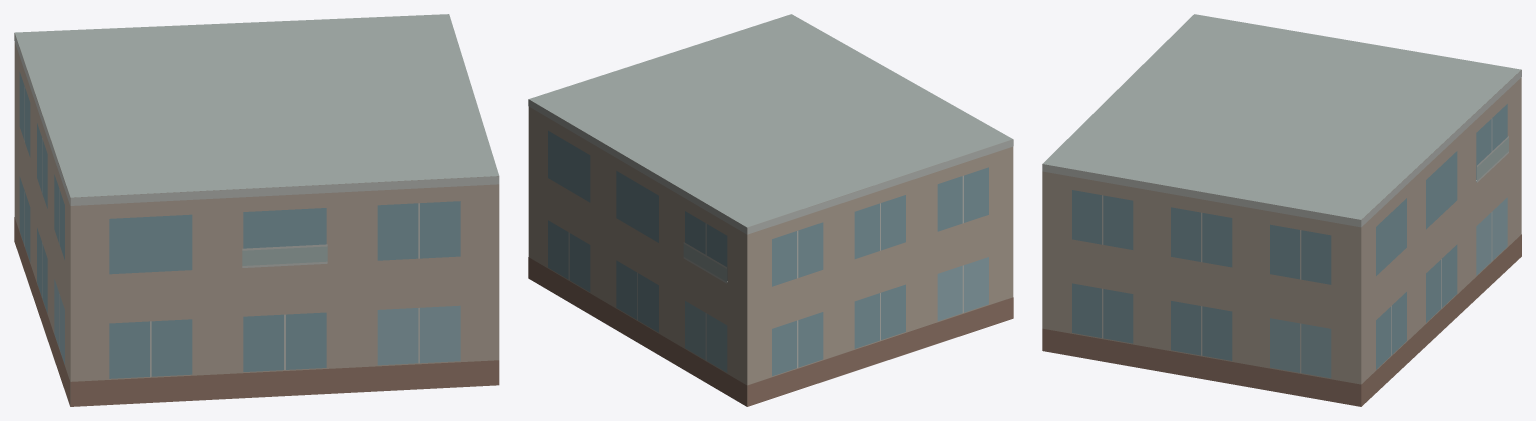
The model's file is survey-upis-32958177.glb.
3 renders of one model, left to right at view 1: azimuth 30°, elevation 25°; view 2: azimuth 150°, elevation 25°; view 3: azimuth 270°, elevation 25°, orthographic. The views are drawn at different scales.
Visible parts, largest first — view 1: survey-upis-32958177.tmp; view 2: survey-upis-32958177.tmp; view 3: survey-upis-32958177.tmp.
Part boxes in pixels (x1=…): survey-upis-32958177.tmp: x1=14, y1=14, x2=499, y2=406; survey-upis-32958177.tmp: x1=528, y1=14, x2=1013, y2=406; survey-upis-32958177.tmp: x1=1042, y1=14, x2=1521, y2=406.
Bounding box in the file's own units: 14.42 × 6.1 × 14.19.
